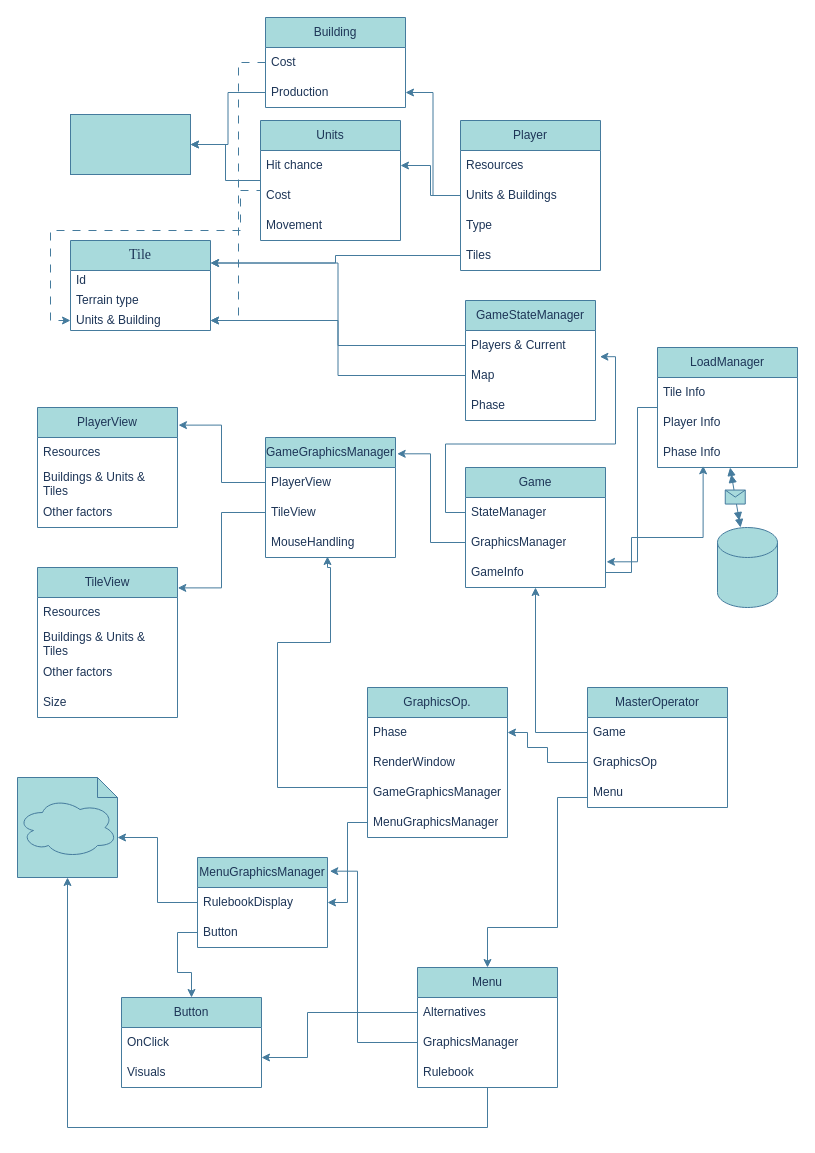
Some shapes in this 815 by 1153 pixel diagram are drawn without their labels. The shapes that lost their labels are listed below. From the top down, each one's centre as x and y in pixels, then its label:
At point (130, 144): "Subclasses".
At point (747, 567): "Storage".
At point (67, 827): "Cloud?".
